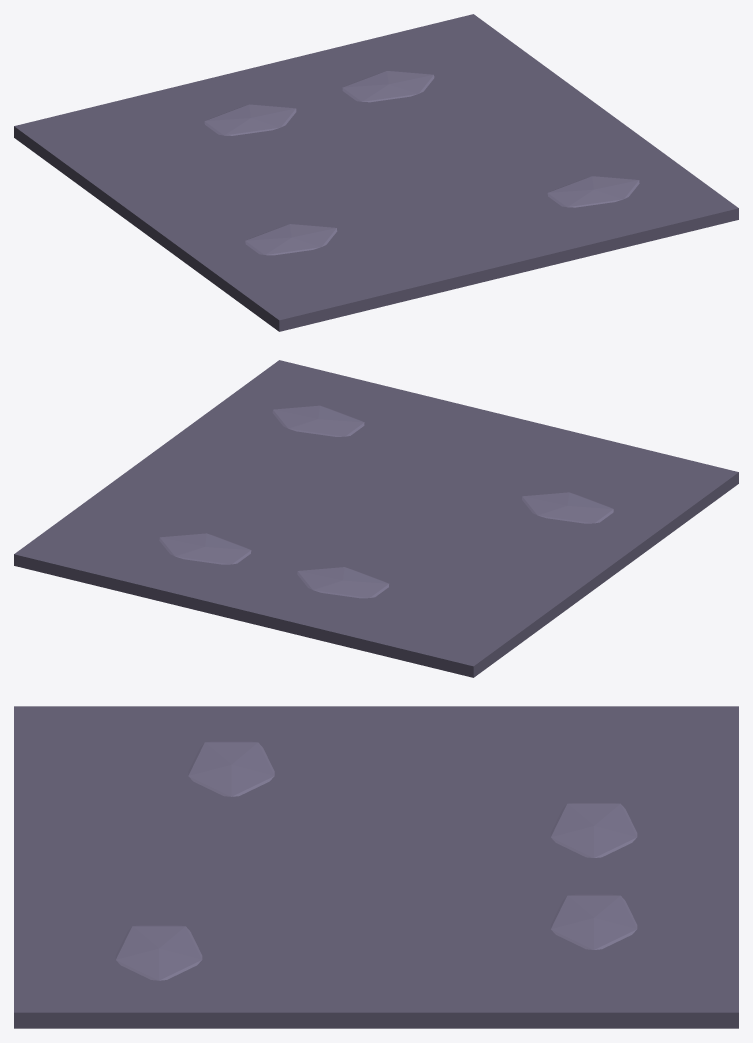
Rendered from SH10_L09_Ground.fbx.
The picture shows the model from 3 angles, top to bottom: view 1: azimuth 30°, elevation 25°; view 2: azimuth 150°, elevation 25°; view 3: azimuth 270°, elevation 25°; orthographic projection. The views are drawn at different scales.
Parts seen in each view (by area): view 1: SH10_L09_Ground; view 2: SH10_L09_Ground; view 3: SH10_L09_Ground.
Boxes of the visible parts, left/top/right/bottom form: SH10_L09_Ground: left=14, top=14, right=738, bottom=331; SH10_L09_Ground: left=14, top=360, right=738, bottom=677; SH10_L09_Ground: left=14, top=706, right=738, bottom=1028.
Size of the model in its own units: 1000 by 28.5 by 1000.
